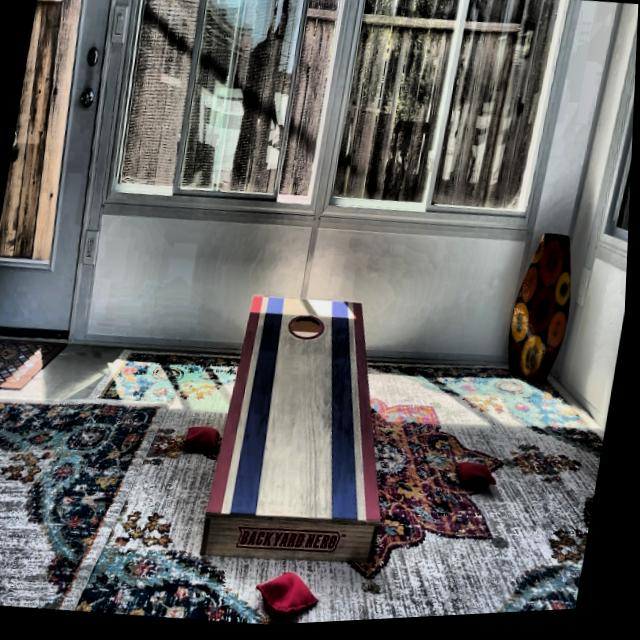board: (219, 293, 380, 529)
hole: (288, 315, 330, 346)
red-bean-bag: (257, 569, 329, 629), (458, 462, 504, 497), (185, 425, 225, 456)
